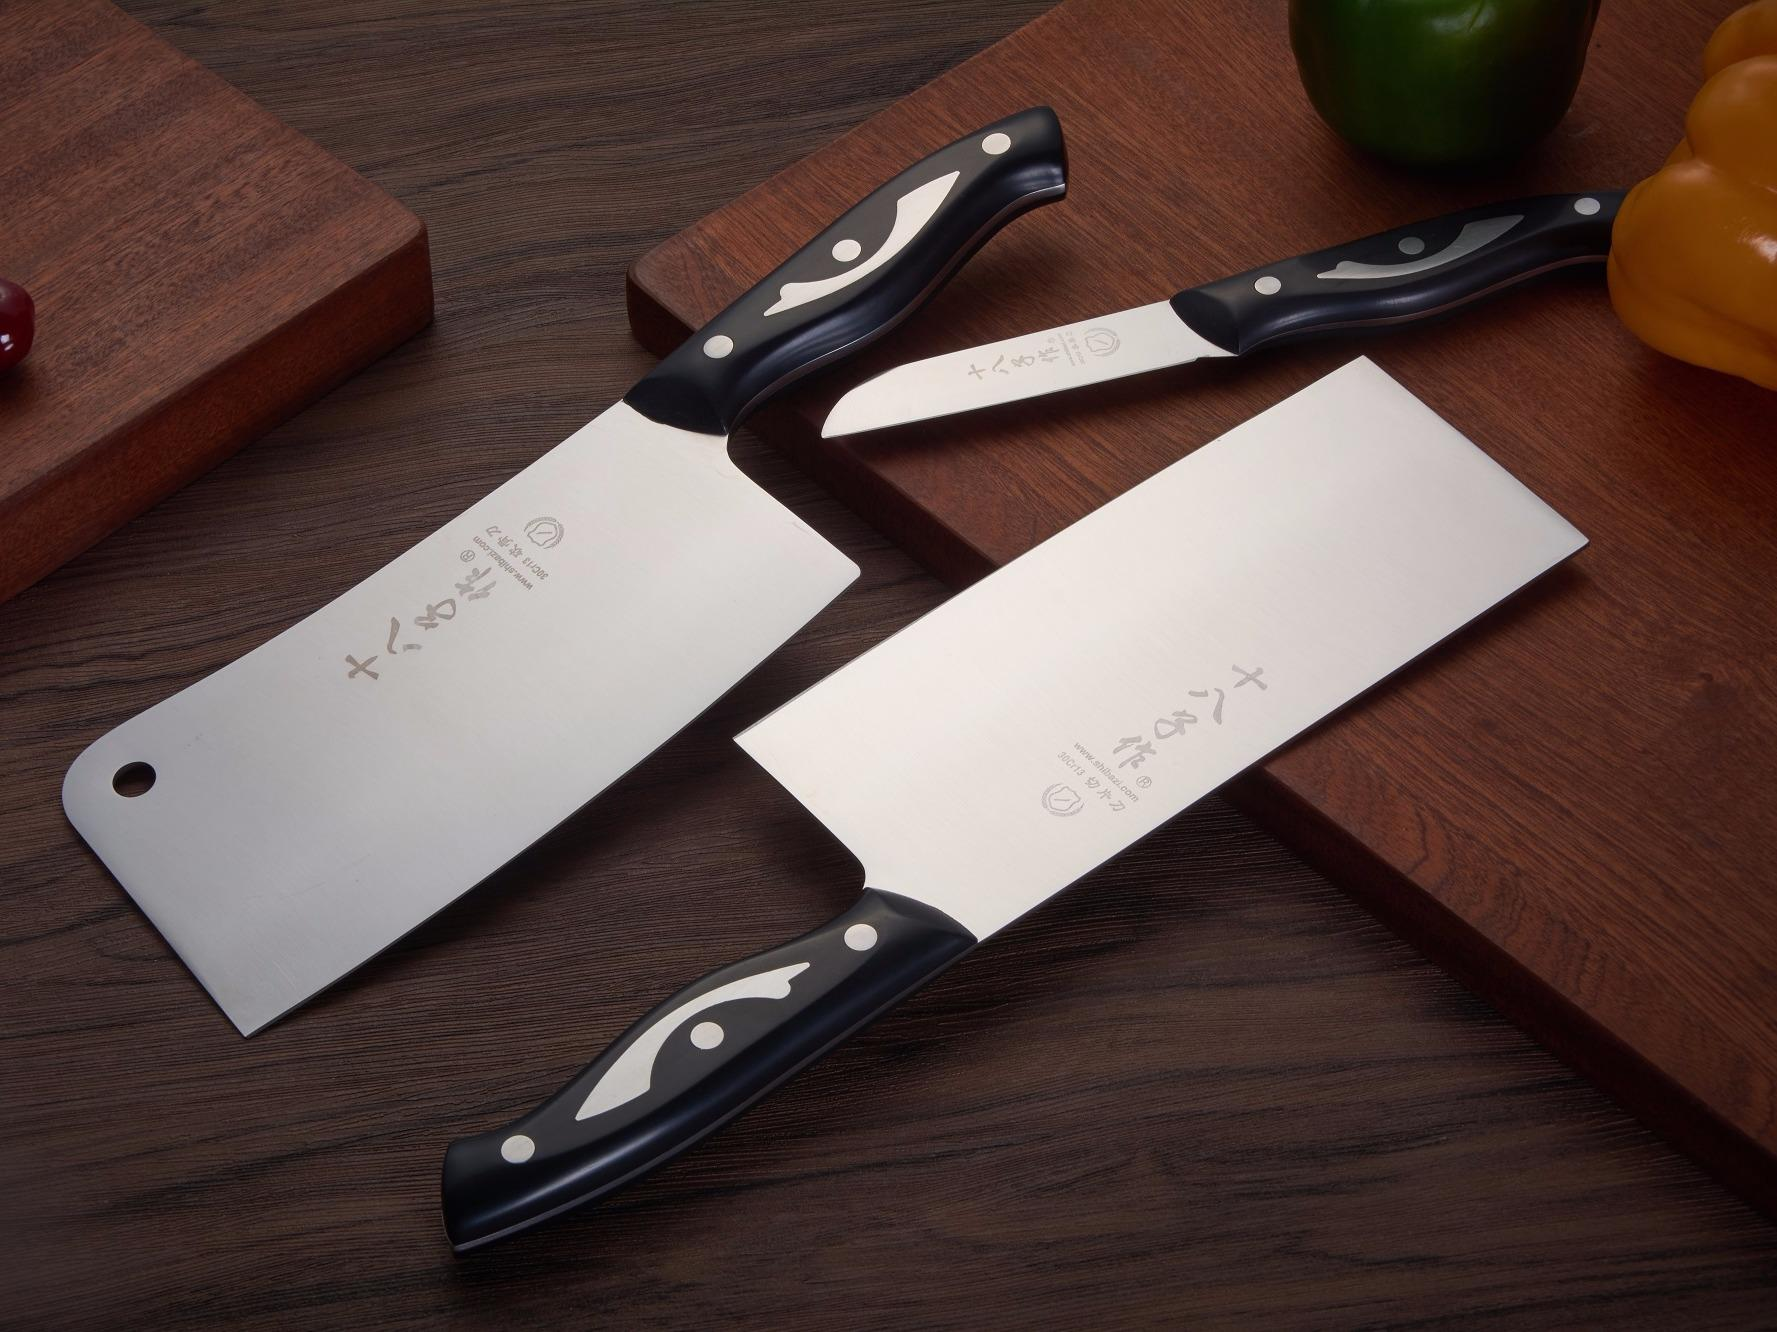knife: (50, 127, 1631, 1262)
